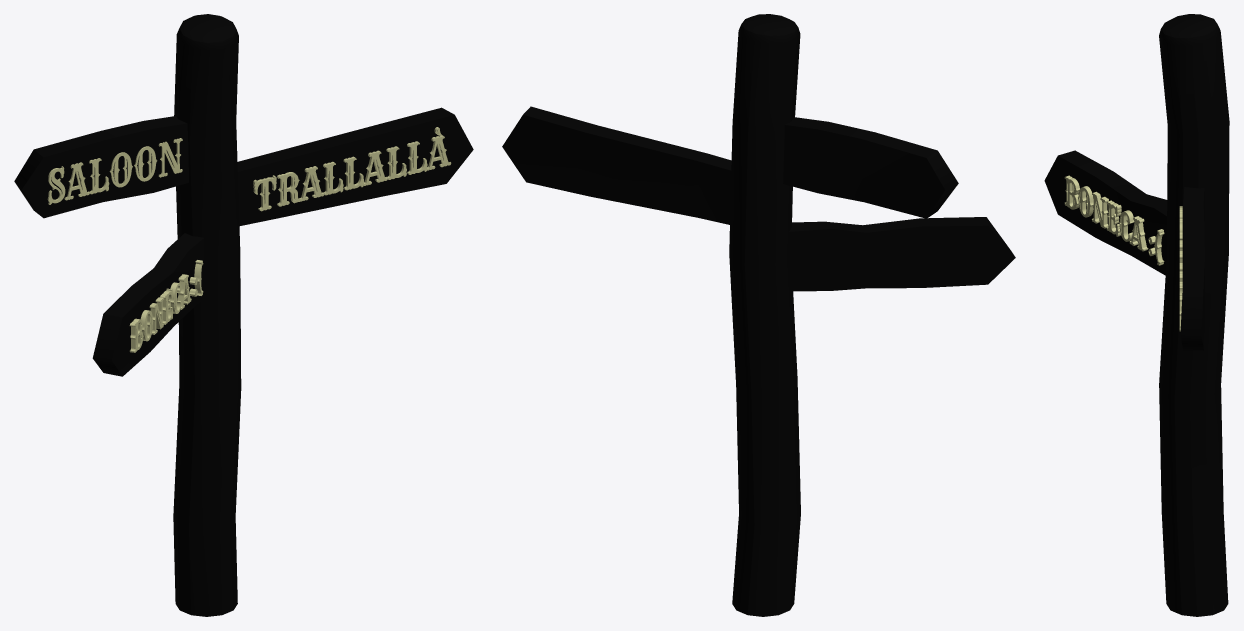
The model's file is cartelli.fbx.
3 views of the same model, side by side, from view 1: azimuth 30°, elevation 25°; view 2: azimuth 150°, elevation 25°; view 3: azimuth 270°, elevation 25° (orthographic).
Visible parts, largest first — view 1: pCylinder16, pCube28, pCube27, pCube29, typeMesh3, typeMesh2, typeMesh4; view 2: pCylinder16, pCube28, pCube29, pCube27; view 3: pCylinder16, pCube29, pCube28, typeMesh4, typeMesh3.
Part boxes in pixels (x1,y1,x2,y2): pCylinder16: [173, 14, 241, 616]; pCube28: [237, 107, 473, 225]; pCube27: [14, 116, 188, 218]; pCube29: [92, 233, 204, 376]; typeMesh3: [253, 127, 451, 211]; typeMesh2: [47, 138, 182, 204]; typeMesh4: [129, 260, 203, 352]; pCylinder16: [729, 14, 800, 616]; pCube28: [502, 106, 731, 224]; pCube29: [788, 217, 1015, 291]; pCube27: [783, 117, 958, 218]; pCylinder16: [1159, 14, 1229, 616]; pCube29: [1044, 150, 1167, 275]; pCube28: [1180, 187, 1205, 350]; typeMesh4: [1064, 175, 1164, 265]; typeMesh3: [1179, 206, 1182, 331].
Size of the model in its own units: 1.92 by 2.38 by 0.6856.
